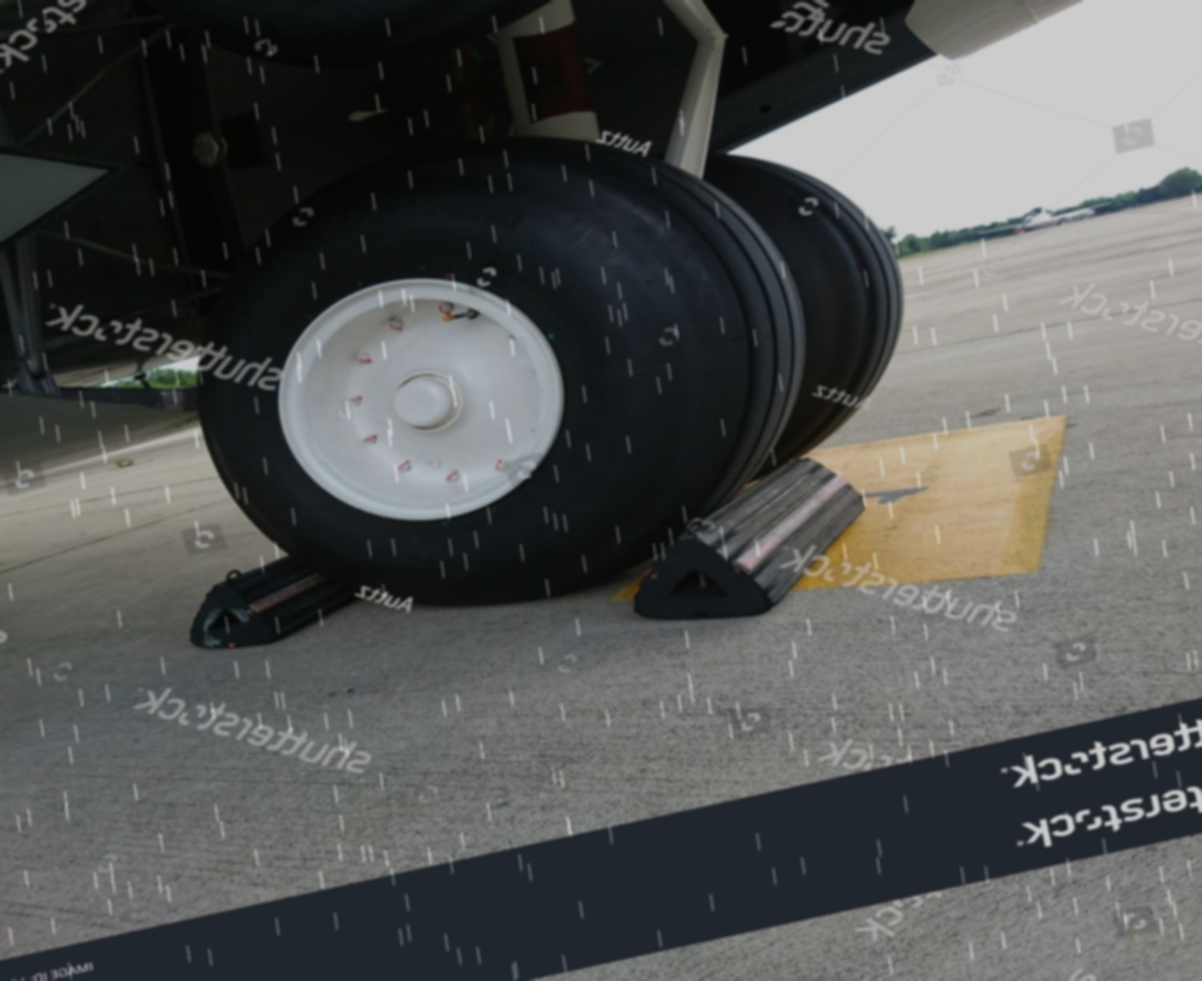chock: (611, 444, 884, 640), (172, 529, 377, 663)
wheel: (184, 85, 825, 655), (674, 117, 941, 477)
